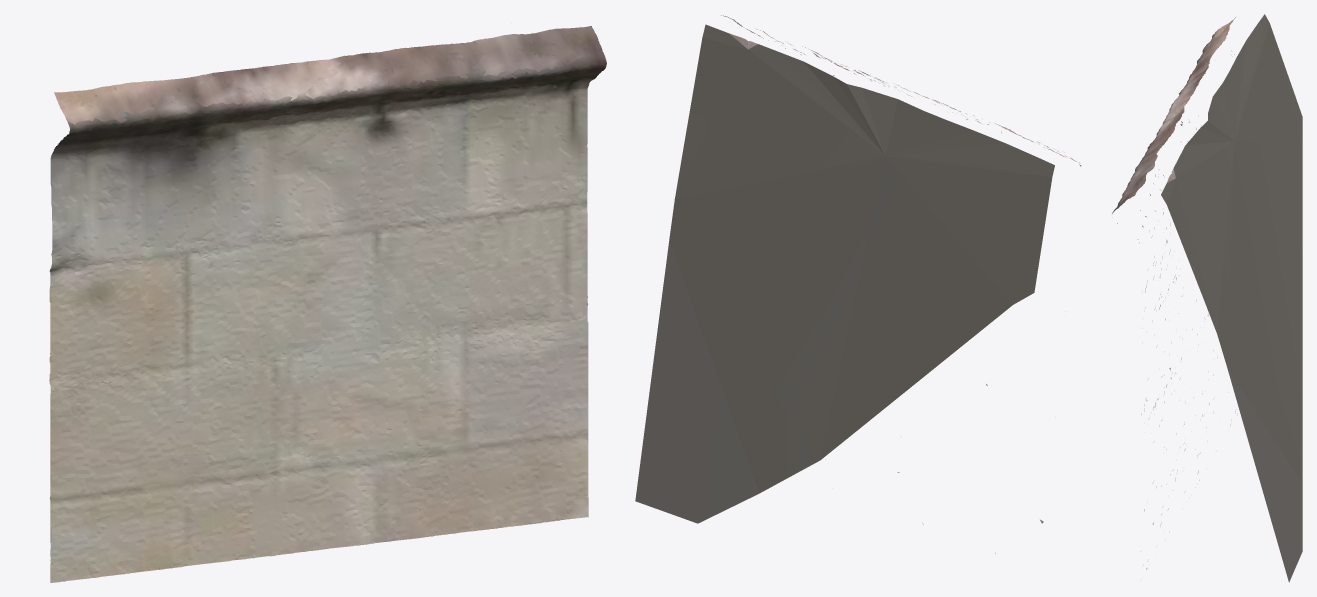
The picture shows the model from 3 angles, left to right: view 1: azimuth 30°, elevation 25°; view 2: azimuth 150°, elevation 25°; view 3: azimuth 270°, elevation 25°; orthographic projection. The views are drawn at different scales.
Bounding box in the file's own units: 0.983 × 0.983 × 0.4386.
Materials: 1 (1 with a texture image).
